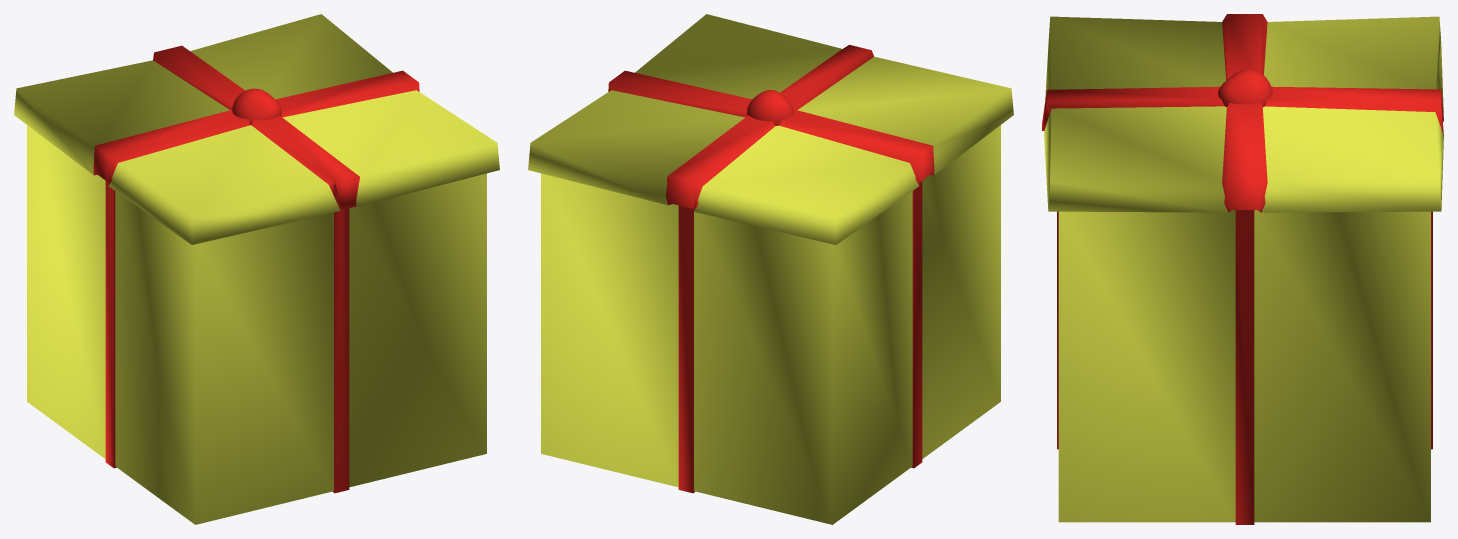
The model's file is GiftBox.fbx.
The picture shows the model from 3 angles, left to right: view 1: azimuth 30°, elevation 25°; view 2: azimuth 150°, elevation 25°; view 3: azimuth 270°, elevation 25°; orthographic projection. The views are drawn at different scales.
Visible parts, largest first — view 1: Cube, Sphere; view 2: Cube, Sphere; view 3: Cube, Sphere.
Boxes of the visible parts, box(x1,y1,x2,y2) form: Cube: box(14, 14, 499, 524); Sphere: box(232, 88, 281, 125); Cube: box(528, 14, 1013, 524); Sphere: box(746, 90, 794, 125); Cube: box(1042, 14, 1443, 524); Sphere: box(1218, 69, 1272, 107).
Size of the model in its own units: 26.76 by 27.75 by 27.01.
